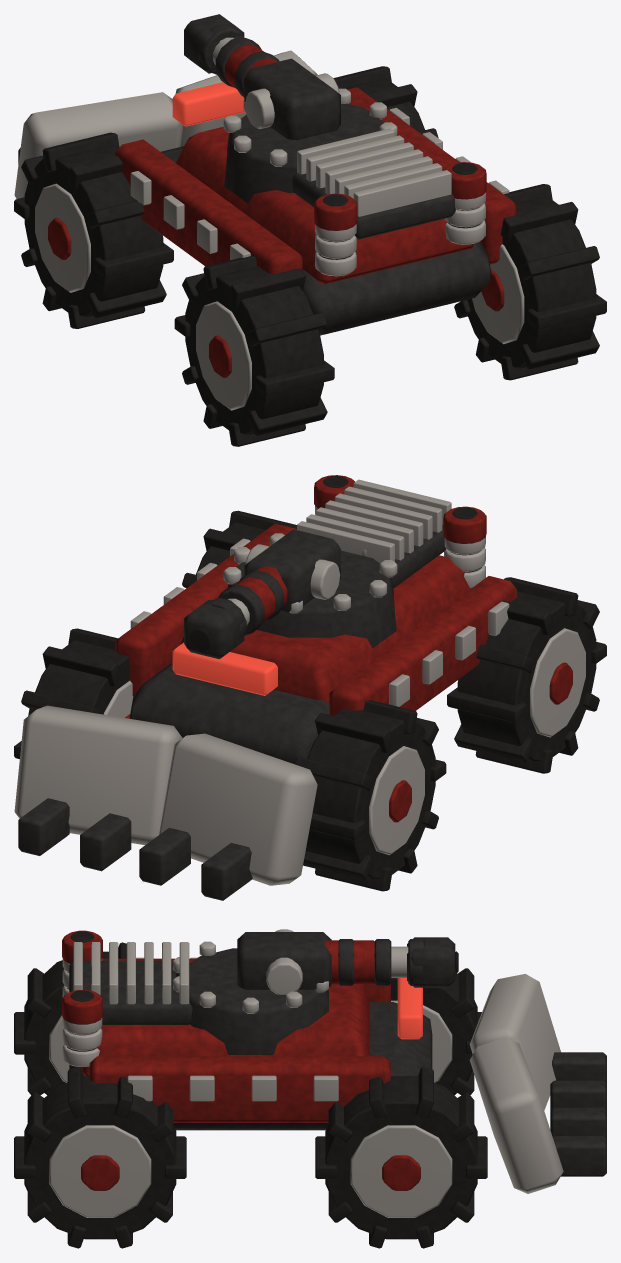
File: kharn_belier.gltf
3 views of the same model, one above another, from view 1: azimuth 30°, elevation 25°; view 2: azimuth 150°, elevation 25°; view 3: azimuth 270°, elevation 25° (orthographic). The views are drawn at different scales.
Parts seen in each view (by area): view 1: Root.022_Geometry, Wheel_-0.7018000000000001_-0.001_Geometry, Wheel_-0.7018000000000001_0.001_Geometry, Wheel_0.7018000000000001_-0.001_Geometry, Tool_0.001_Geometry, GunPitch.010_Geometry, GunRecoil.007_Geometry, Wheel_0.7018000000000001_0.001_Geometry; view 2: Root.022_Geometry, Tool_0.001_Geometry, Wheel_-0.7018000000000001_0.001_Geometry, Wheel_-0.7018000000000001_-0.001_Geometry, Wheel_0.7018000000000001_0.001_Geometry, GunRecoil.007_Geometry, GunPitch.010_Geometry, Wheel_0.7018000000000001_-0.001_Geometry; view 3: Root.022_Geometry, Wheel_0.7018000000000001_0.001_Geometry, Wheel_0.7018000000000001_-0.001_Geometry, Tool_0.001_Geometry, GunRecoil.007_Geometry, GunPitch.010_Geometry, Wheel_-0.7018000000000001_-0.001_Geometry, Wheel_-0.7018000000000001_0.001_Geometry.
Boxes of the visible parts, bbox=[...] form: Root.022_Geometry: bbox=[115, 82, 516, 335]; Wheel_-0.7018000000000001_-0.001_Geometry: bbox=[174, 255, 334, 446]; Wheel_-0.7018000000000001_0.001_Geometry: bbox=[14, 132, 173, 328]; Wheel_0.7018000000000001_-0.001_Geometry: bbox=[454, 184, 606, 380]; Tool_0.001_Geometry: bbox=[14, 50, 317, 198]; GunPitch.010_Geometry: bbox=[244, 58, 340, 140]; GunRecoil.007_Geometry: bbox=[184, 14, 279, 97]; Wheel_0.7018000000000001_0.001_Geometry: bbox=[333, 66, 438, 137]; Root.022_Geometry: bbox=[115, 475, 516, 763]; Tool_0.001_Geometry: bbox=[14, 705, 317, 900]; Wheel_-0.7018000000000001_0.001_Geometry: bbox=[294, 700, 446, 891]; Wheel_-0.7018000000000001_-0.001_Geometry: bbox=[447, 577, 606, 773]; Wheel_0.7018000000000001_0.001_Geometry: bbox=[14, 628, 133, 758]; GunRecoil.007_Geometry: bbox=[184, 566, 287, 659]; GunPitch.010_Geometry: bbox=[244, 529, 340, 613]; Wheel_0.7018000000000001_-0.001_Geometry: bbox=[182, 510, 296, 588]; Root.022_Geometry: bbox=[62, 930, 432, 1130]; Wheel_0.7018000000000001_0.001_Geometry: bbox=[315, 1067, 487, 1248]; Wheel_0.7018000000000001_-0.001_Geometry: bbox=[14, 1067, 186, 1248]; Tool_0.001_Geometry: bbox=[469, 974, 606, 1193]; GunRecoil.007_Geometry: bbox=[325, 937, 458, 987]; GunPitch.010_Geometry: bbox=[237, 929, 331, 994]; Wheel_-0.7018000000000001_-0.001_Geometry: bbox=[14, 942, 126, 1095]; Wheel_-0.7018000000000001_0.001_Geometry: bbox=[391, 968, 481, 1095].
Bounding box in the file's own units: 1.78 × 1.21 × 2.83.
Materials: 5 (3 with a texture image).
